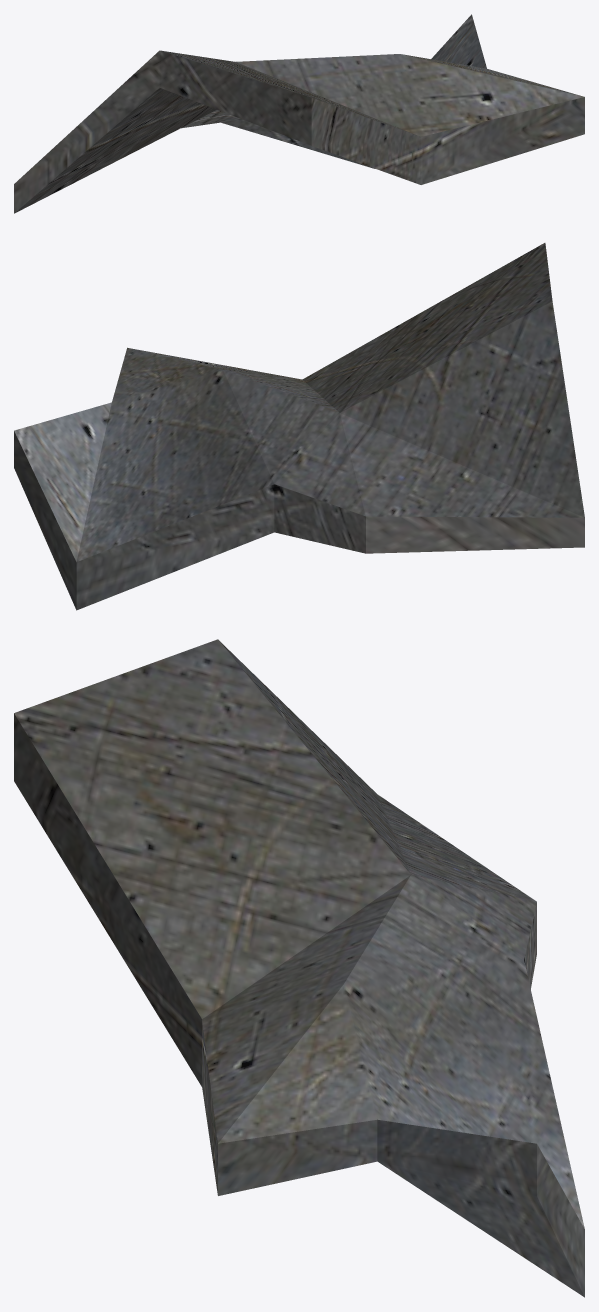
The model's file is shrap_03.obj.
The picture shows the model from 3 angles, top to bottom: view 1: azimuth 30°, elevation 25°; view 2: azimuth 150°, elevation 25°; view 3: azimuth 270°, elevation 25°; orthographic projection. The views are drawn at different scales.
Parts seen in each view (by area): view 1: Cube.002; view 2: Cube.002; view 3: Cube.002.
Boxes of the visible parts, box(x1,y1,x2,y2) form: Cube.002: box(14, 14, 584, 213); Cube.002: box(14, 243, 584, 610); Cube.002: box(14, 639, 584, 1297).
Size of the model in its own units: 2.47 by 1.37 by 1.69.
